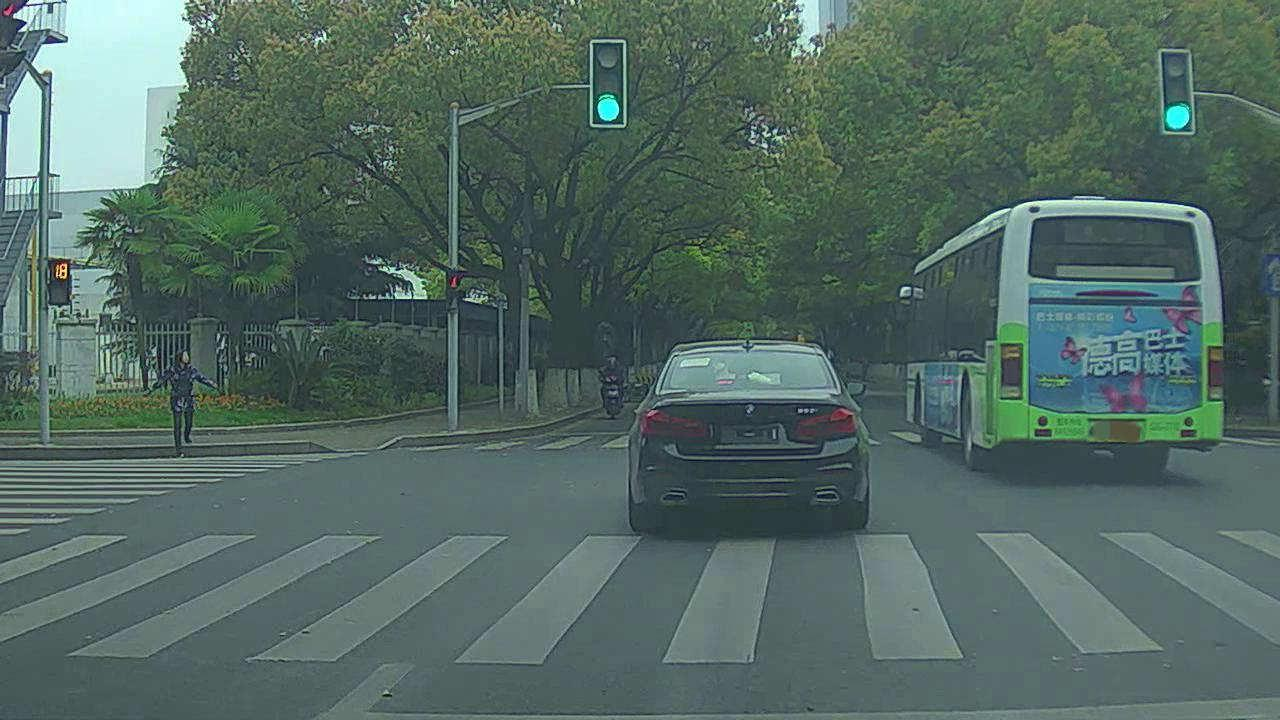traffic_light: (586, 41, 627, 127), (1155, 48, 1193, 131)
